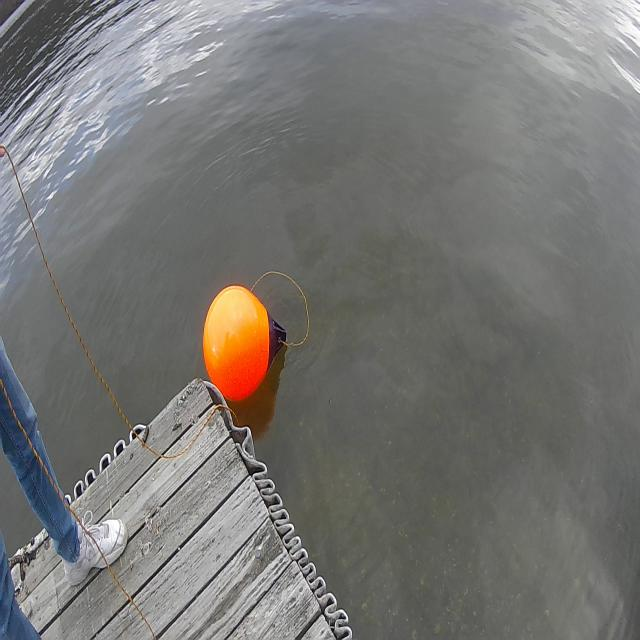Buoy: (191, 273, 297, 416)
